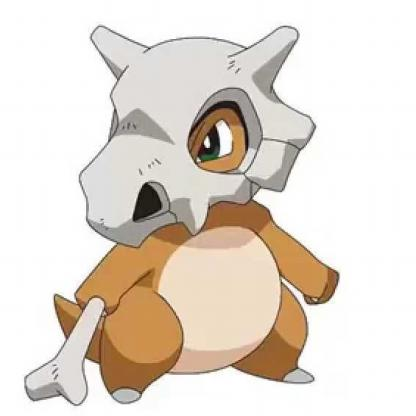Cubone: (25, 16, 342, 409)
